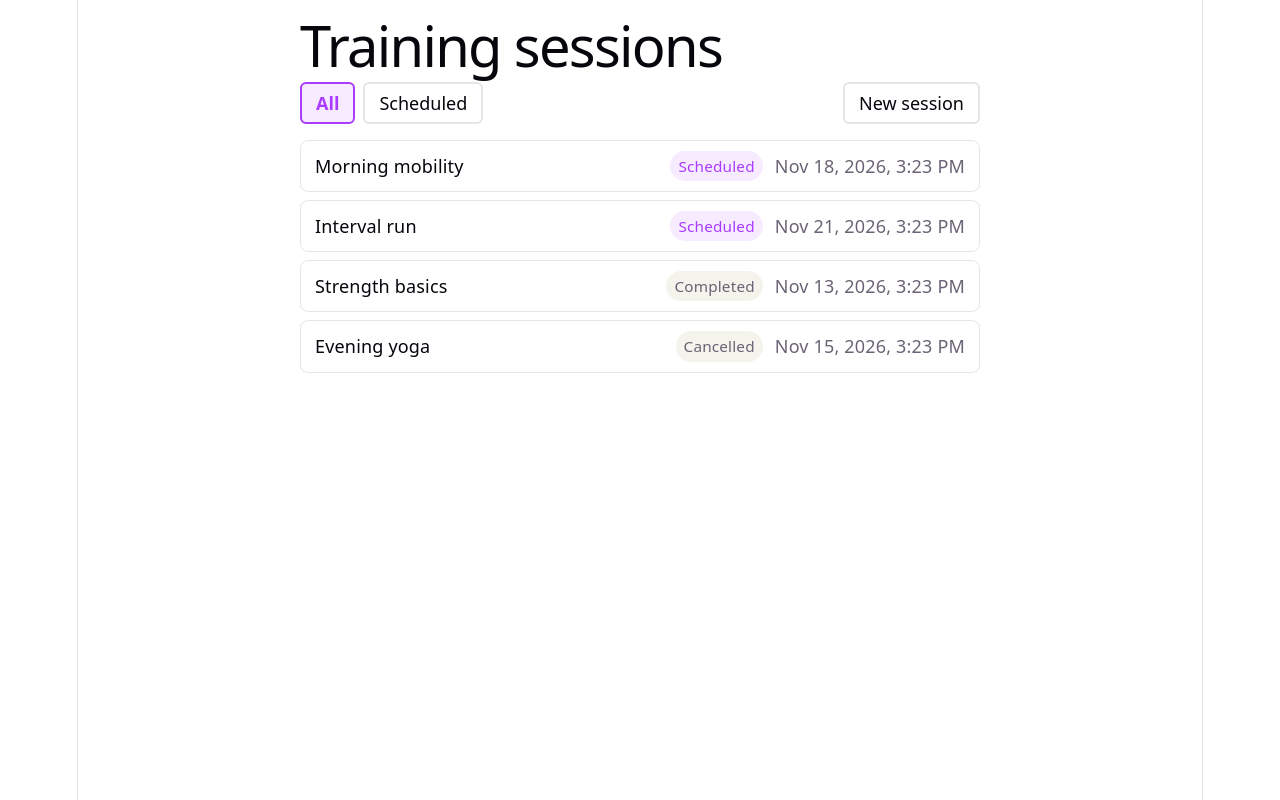
Test: training sessions workspace › filters sessions by Scheduled status
Later steps or results of the test are not shown.
expect the text "Completed" is shown: met, box [666,271,763,302]
expect the text "Cancelled" is shown: met, box [676,332,763,362]
Step 1. Click the button "Scheduled" → (423, 103), box [363,82,483,124]
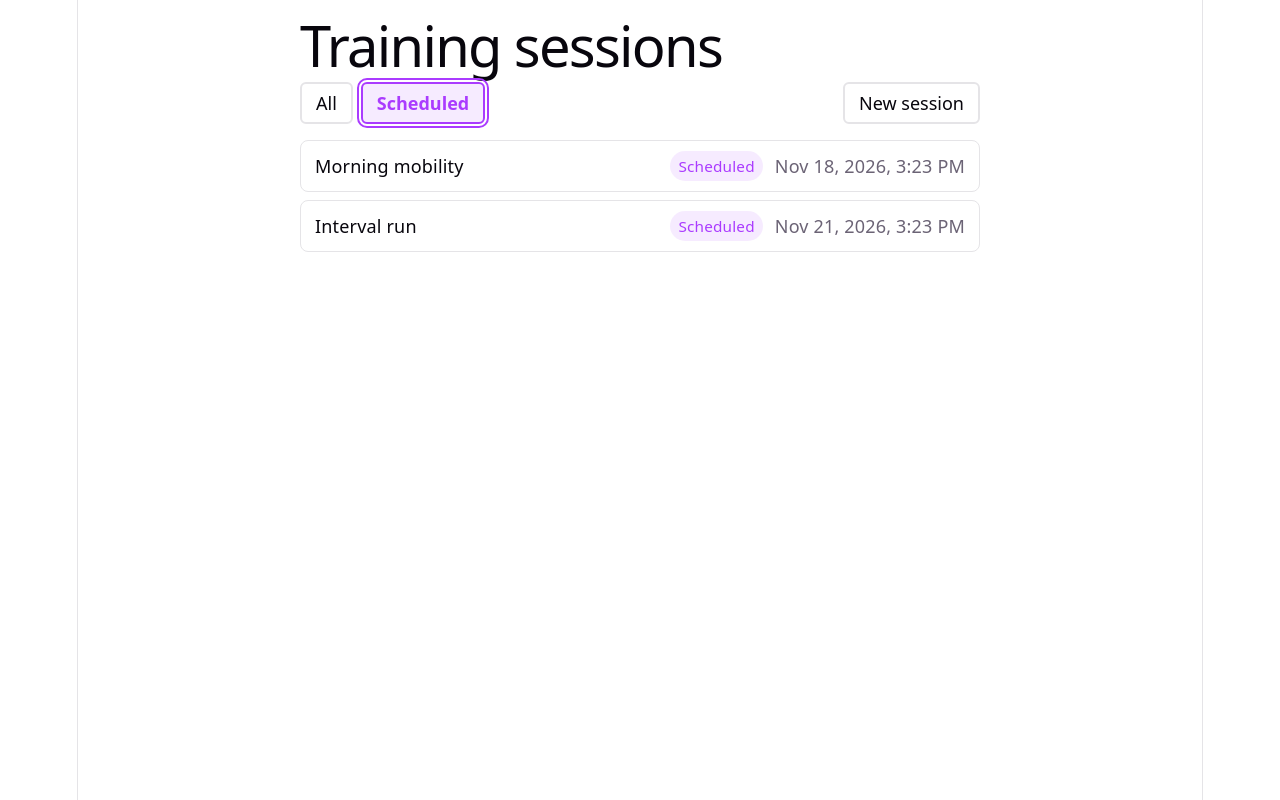
expect the text "Strength basics" is gone: met
expect the text "Evening yoga" is gone: met
Step 2. Click the button "All" → (326, 103), box [300,82,353,124]
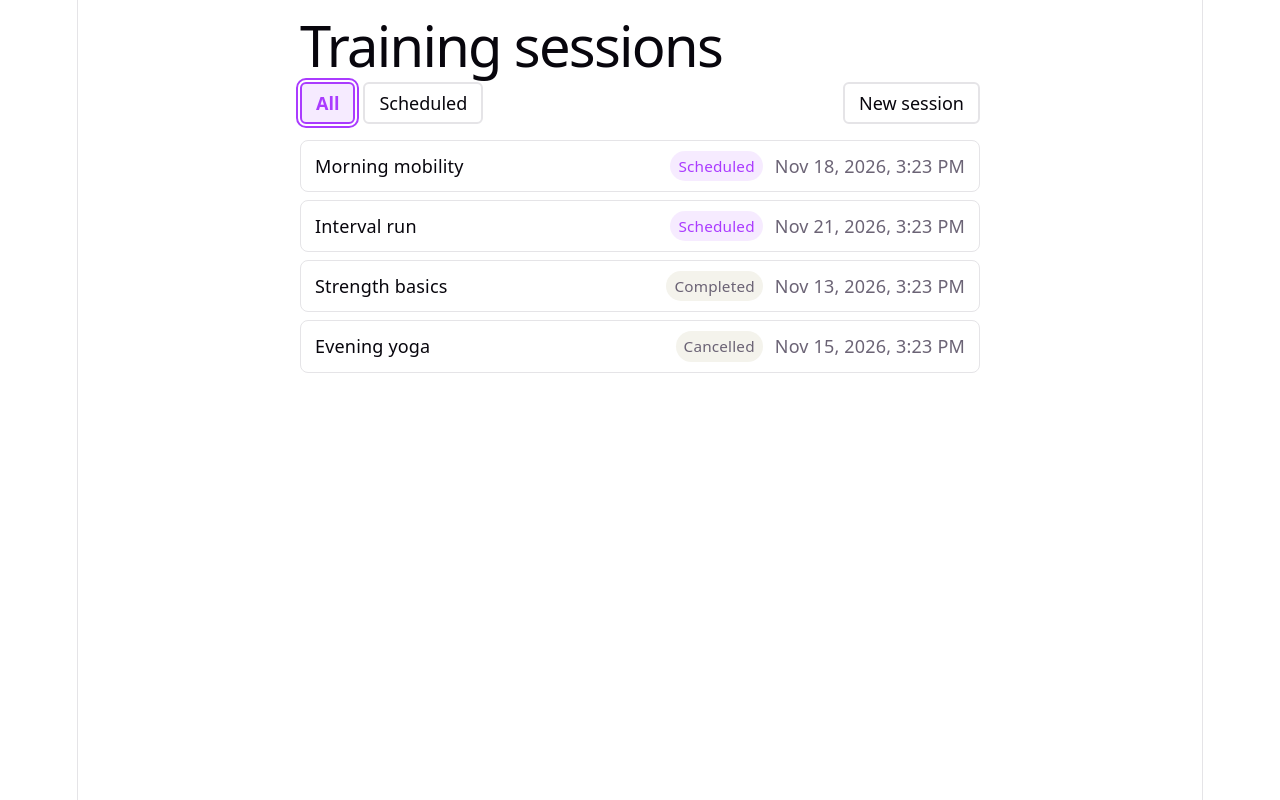
expect the button "All" is pressed: met, box [300,82,355,124]
